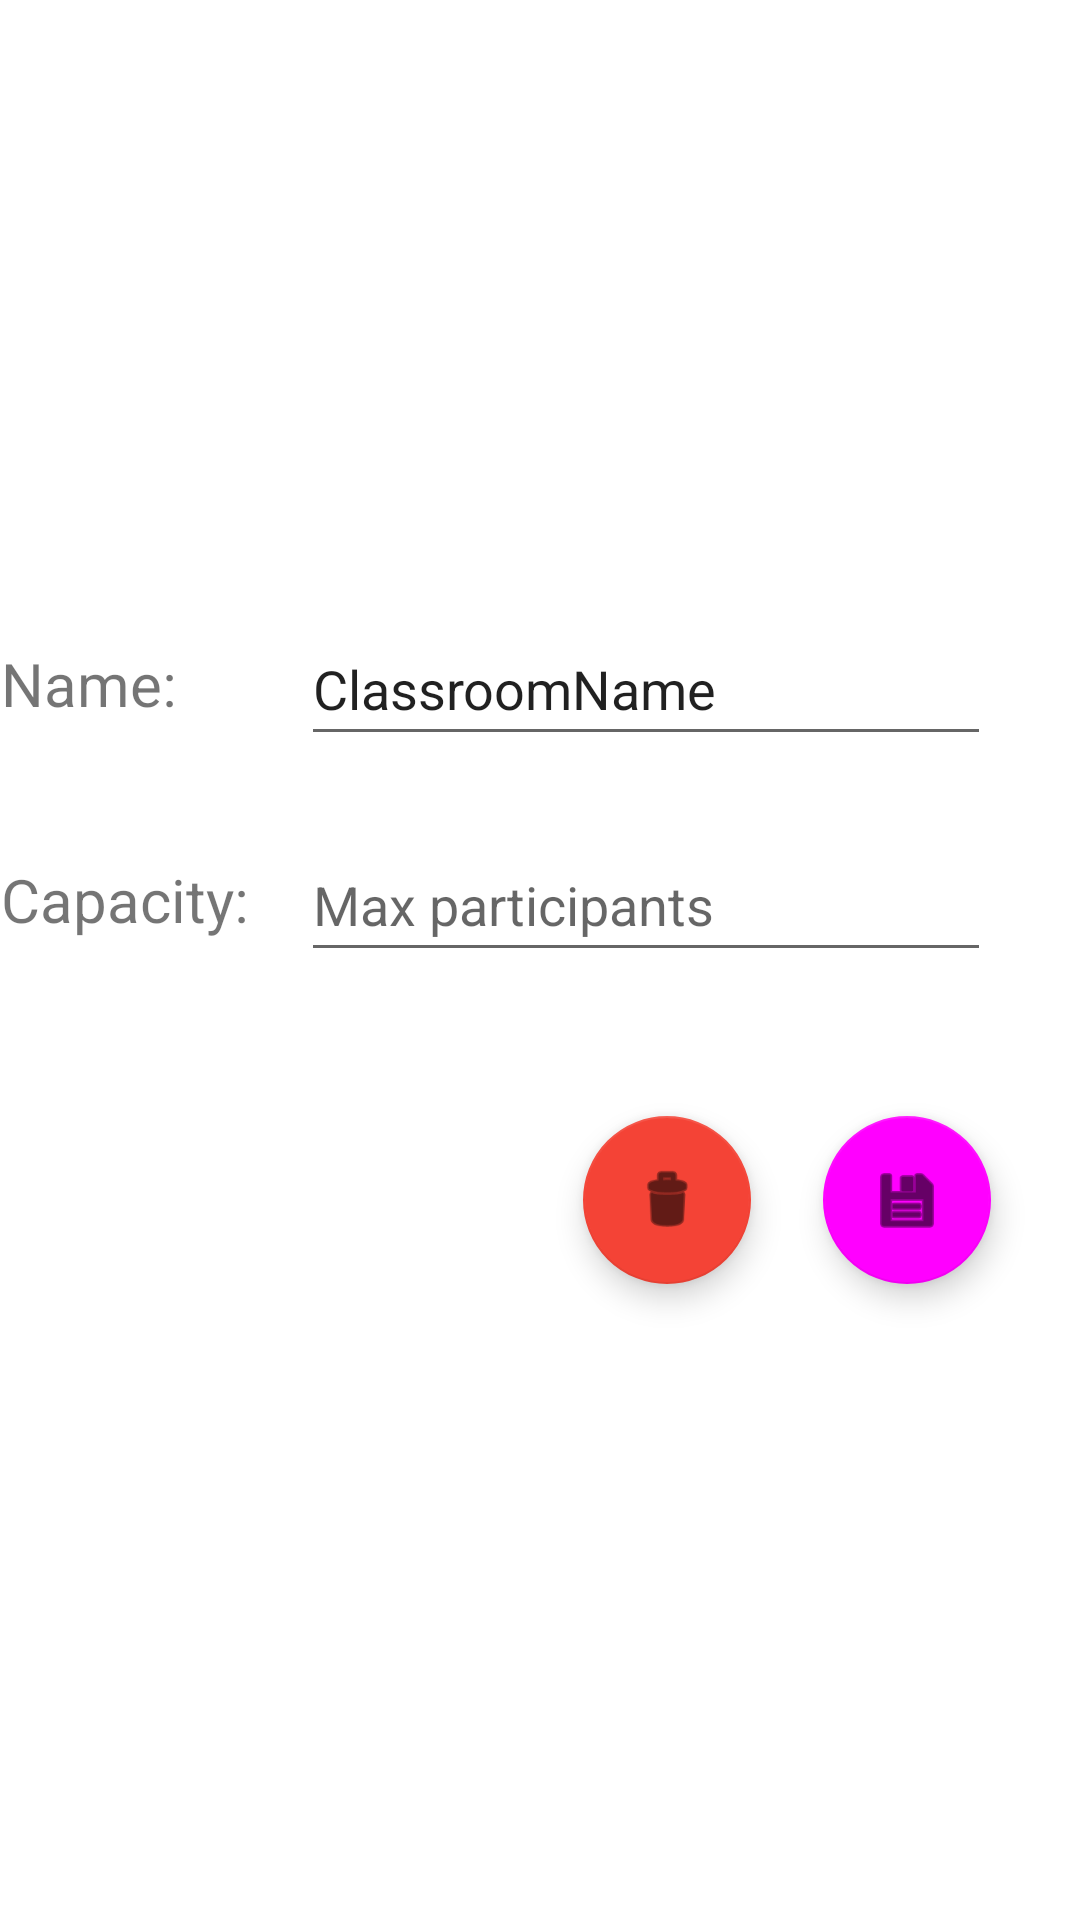

Where icons sit on this 1080×1920 app screen, as bbox=[x1, y1, x2, y2]:
Delete classroom: bbox=[583, 1116, 751, 1284]
save: bbox=[823, 1116, 991, 1284]
